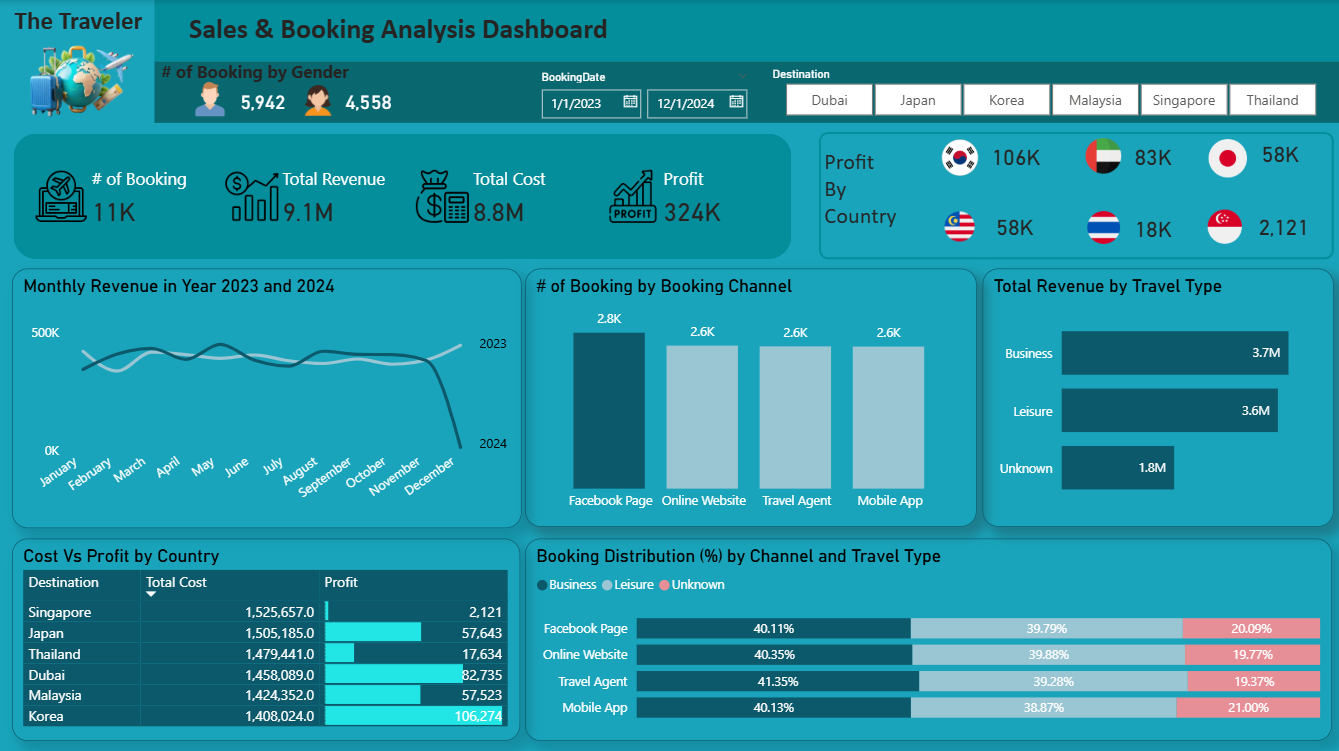

The dashboard page shown, as its layout file describes it:
{"tool":"powerbi","page":{"name":"The_Traveler_Main","canvas":[1280,720],"ordinal":0},"visuals":[{"type":"shape","box":[0,0,1280,720],"z":0},{"type":"shape","box":[147.1,0,1132.9,58.6],"z":1000},{"type":"shape","box":[147.1,58.6,1132.9,58.6],"z":2000},{"type":"shape","box":[12.9,127.1,742.9,120],"z":3000},{"type":"image","box":[0,10,147.1,127.1],"z":4000},{"type":"textbox","box":[0,0,150,51.4],"z":5000},{"type":"shape","box":[781.7,126.7,491.7,121.7],"z":6000},{"type":"cardVisual","fields":{"Data":["Calculations.Booking Count","Calculations.Total Revenue","Calculations.Total Cost","Calculations.Profit"]},"box":[15.7,127.1,740,120],"z":7000},{"type":"lineChart","title":"Monthly Revenue in Year 2023 and 2024","fields":{"Category":["tbl_date.Month Name"],"Series":["tbl_date.Year"],"Y":["Calculations.Total Revenue"]},"box":[11.1,256.1,486.7,248.1],"z":8000},{"type":"image","box":[1148.8,127.5,47.3,47.3],"z":9000},{"type":"image","box":[1031.3,123.2,44.4,51.6],"z":10000},{"type":"image","box":[1145.9,194.8,47.3,43],"z":11000},{"type":"image","box":[892.4,127.5,48.7,45.8],"z":12000},{"type":"image","box":[1025.6,196.2,57.3,41.5],"z":13000},{"type":"image","box":[896.7,191.9,38.7,48.7],"z":14000},{"type":"card","fields":{"Values":["Calculations.Profit_Korea"]},"box":[925.3,126.1,88.8,47.3],"z":15000},{"type":"card","fields":{"Values":["Calculations.Profit_Dubai"]},"box":[1055.7,126.1,90.2,47.3],"z":16000},{"type":"card","fields":{"Values":["Calculations.Profit_Japan"]},"box":[1173.1,123.2,97.4,47.3],"z":17000},{"type":"card","fields":{"Values":["Calculations.Profit_Malaysia"]},"box":[926.8,193.4,83.1,47.3],"z":18000},{"type":"card","fields":{"Values":["Calculations.Profit_Thailand"]},"box":[1065.7,194.8,70.2,47.3],"z":19000},{"type":"card","fields":{"Values":["Calculations.Profit_Singapore"]},"box":[1174.6,193.4,101.7,47.3],"z":20000},{"type":"clusteredColumnChart","title":"Booking by Channel","fields":{"Category":["tbl_channel.BookingChannel"],"Y":["Calculations.Booking Count"]},"box":[501,256.1,431.1,246.5],"z":21000},{"type":"barChart","title":"Total Revenue by Travel Type","fields":{"Category":["tbl_bookings.TravelType"],"Y":["Calculations.Total Revenue"]},"box":[938.5,256.1,335.6,246.5],"z":22000},{"type":"image","box":[176.6,73.2,49.3,42.9],"z":23000},{"type":"image","box":[283.1,65.2,39.8,60.4],"z":24000},{"type":"card","fields":{"Values":["Calculations.Booking Count"]},"box":[202,71.6,65.9,53],"z":25000},{"type":"card","fields":{"Values":["Calculations.Booking Count"]},"box":[303.7,71.6,67.3,53],"z":26000},{"type":"textbox","box":[145.7,5.7,468.6,48.6],"z":27000},{"type":"slicer","fields":{"Values":["tbl_bookings.BookingDate"]},"box":[504.2,62,222.7,60.4],"z":28000},{"type":"slicer","fields":{"Values":["tbl_destination.Destination"]},"box":[724.3,58.6,555.7,58.6],"z":29000},{"type":"pivotTable","title":"Cost Vs Profit by Destination","fields":{"Rows":["tbl_destination.Destination"],"Values":["Calculations.Total Cost","Calculations.Profit"]},"box":[11.5,514.2,485.6,193.4],"z":30000},{"type":"hundredPercentStackedBarChart","title":"Booking Distribution (%) by Channel and Travel Type","fields":{"Category":["tbl_channel.BookingChannel"],"Series":["tbl_bookings.TravelType"],"Y":["Calculations.Booking Count"]},"box":[501.3,514.2,770.6,193.4],"z":31000},{"type":"textbox","box":[782.1,136.1,110.3,117.5],"z":32000},{"type":"textbox","box":[149.5,50.9,203.6,36.6],"z":33000}]}

Visuals, with their boxes in screenshot pixels (x1, y1, x2, y2), scaled from the page's 1280x720 canvas onto the 1339x751 screenshot:
shape: [x1=0, y1=0, x2=1338, y2=750]
shape: [x1=154, y1=0, x2=1338, y2=61]
shape: [x1=154, y1=61, x2=1338, y2=122]
shape: [x1=13, y1=133, x2=791, y2=258]
image: [x1=0, y1=10, x2=154, y2=143]
textbox: [x1=0, y1=0, x2=157, y2=54]
shape: [x1=818, y1=132, x2=1332, y2=259]
cardVisual - Calculations.Booking Count x Calculations.Total Revenue: [x1=16, y1=133, x2=791, y2=258]
"Monthly Revenue in Year 2023 and 2024" lineChart: [x1=12, y1=267, x2=521, y2=526]
image: [x1=1202, y1=133, x2=1251, y2=182]
image: [x1=1079, y1=129, x2=1125, y2=182]
image: [x1=1199, y1=203, x2=1248, y2=248]
image: [x1=934, y1=133, x2=984, y2=181]
image: [x1=1073, y1=205, x2=1133, y2=248]
image: [x1=938, y1=200, x2=979, y2=251]
card - Calculations.Profit_Korea: [x1=968, y1=132, x2=1061, y2=181]
card - Calculations.Profit_Dubai: [x1=1104, y1=132, x2=1199, y2=181]
card - Calculations.Profit_Japan: [x1=1227, y1=129, x2=1329, y2=178]
card - Calculations.Profit_Malaysia: [x1=970, y1=202, x2=1056, y2=251]
card - Calculations.Profit_Thailand: [x1=1115, y1=203, x2=1188, y2=253]
card - Calculations.Profit_Singapore: [x1=1229, y1=202, x2=1335, y2=251]
"Booking by Channel" clusteredColumnChart: [x1=524, y1=267, x2=975, y2=524]
"Total Revenue by Travel Type" barChart: [x1=982, y1=267, x2=1333, y2=524]
image: [x1=185, y1=76, x2=236, y2=121]
image: [x1=296, y1=68, x2=338, y2=131]
card - Calculations.Booking Count: [x1=211, y1=75, x2=280, y2=130]
card - Calculations.Booking Count: [x1=318, y1=75, x2=388, y2=130]
textbox: [x1=152, y1=6, x2=643, y2=57]
slicer - tbl_bookings.BookingDate: [x1=527, y1=65, x2=760, y2=128]
slicer - tbl_destination.Destination: [x1=758, y1=61, x2=1338, y2=122]
"Cost Vs Profit by Destination" pivotTable: [x1=12, y1=536, x2=520, y2=738]
"Booking Distribution (%) by Channel and Travel Type" hundredPercentStackedBarChart: [x1=524, y1=536, x2=1331, y2=738]
textbox: [x1=818, y1=142, x2=934, y2=265]
textbox: [x1=156, y1=53, x2=369, y2=91]
